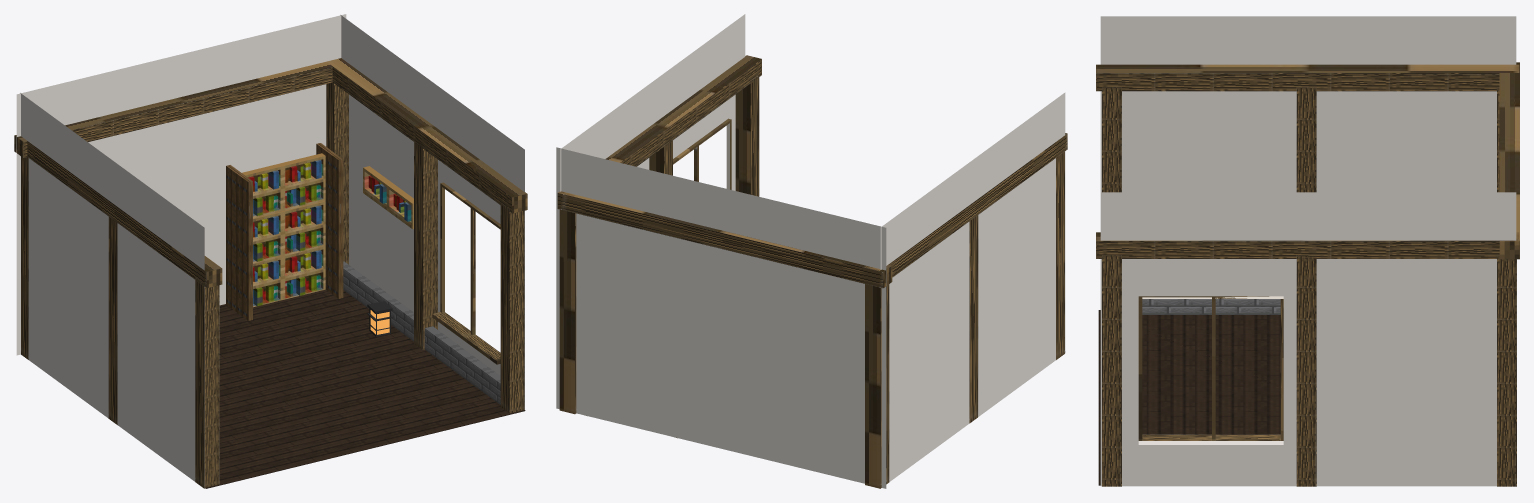
The model's file is background.glb.
3 views of the same model, side by side, from view 1: azimuth 30°, elevation 25°; view 2: azimuth 150°, elevation 25°; view 3: azimuth 270°, elevation 25° (orthographic). The views are drawn at different scales.
Visible parts, largest first — view 1: fa2b83068c33fce69f50ee7c98de0ffb; view 2: fa2b83068c33fce69f50ee7c98de0ffb; view 3: fa2b83068c33fce69f50ee7c98de0ffb.
Boxes of the visible parts, x1,y1,x2,y2 form: fa2b83068c33fce69f50ee7c98de0ffb: (14,14,527,488); fa2b83068c33fce69f50ee7c98de0ffb: (556,14,1067,488); fa2b83068c33fce69f50ee7c98de0ffb: (1096,16,1519,486).
Bounding box in the file's own units: 17.2 × 13.07 × 17.01.
Materials: 32 (23 with a texture image).
